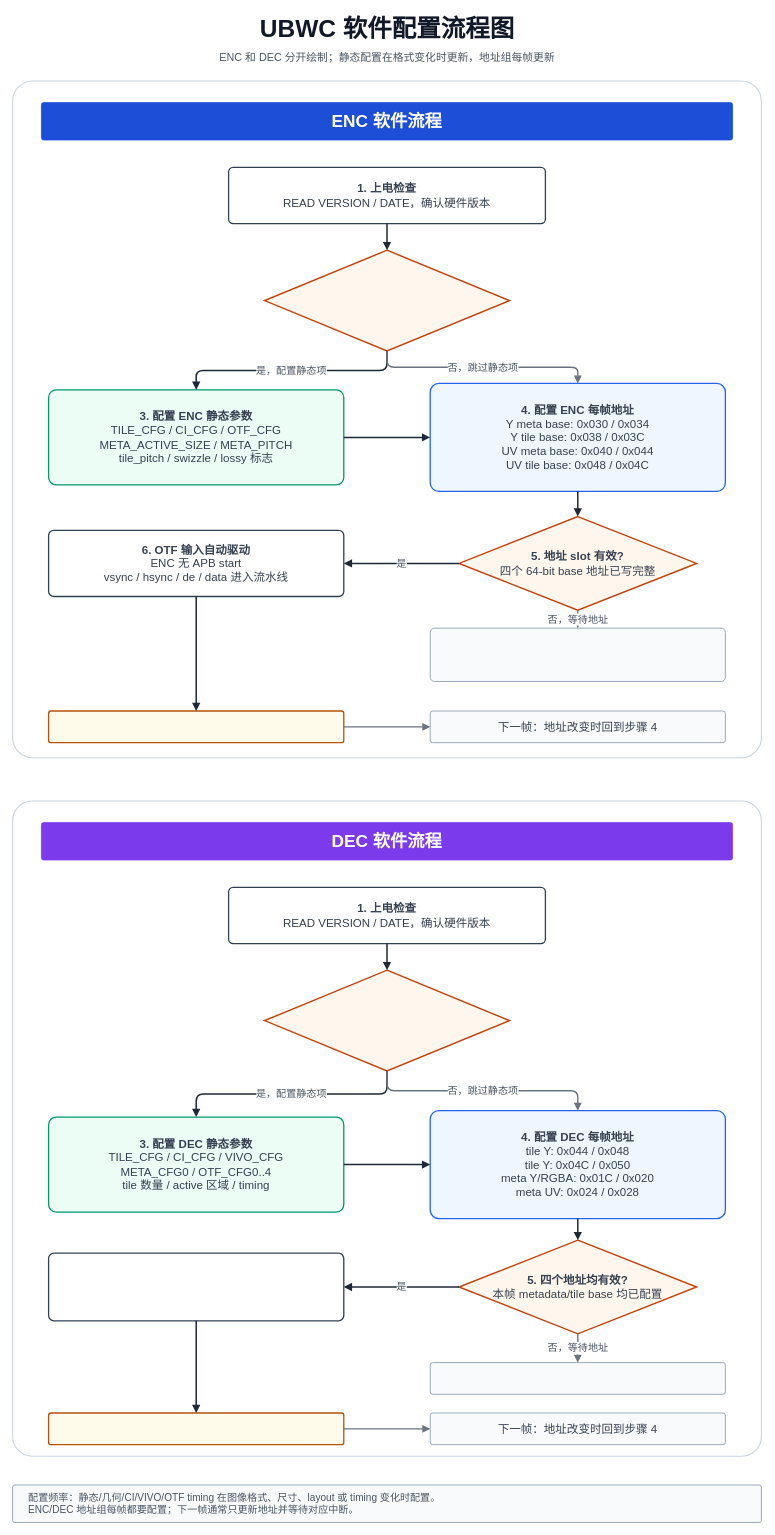
The diagram is 775 pixels wide and 1535 high, and some of its shapes have lost their labels. Each missing label, with the centre of its shape:
2. 图像格式变化? format / size / layout 是否变化: (x=387, y=300)
2. 图像格式变化? format / size / timing 是否变化: (x=387, y=1020)
6. 硬件自动启动 DEC pop FIFO，锁存 slot0/slot1 产生 frame_start，进入 meta/tile/otf 流水线: (x=196, y=1286)
等待 DEC 正确完成中断或错误中断: (x=196, y=1428)
等待 ENC 正确完成中断或错误中断: (x=196, y=726)
等待地址配置 不启动/阻塞当前 fcnt 数据: (x=577, y=654)
等待地址配置，不启动新帧: (x=577, y=1378)
